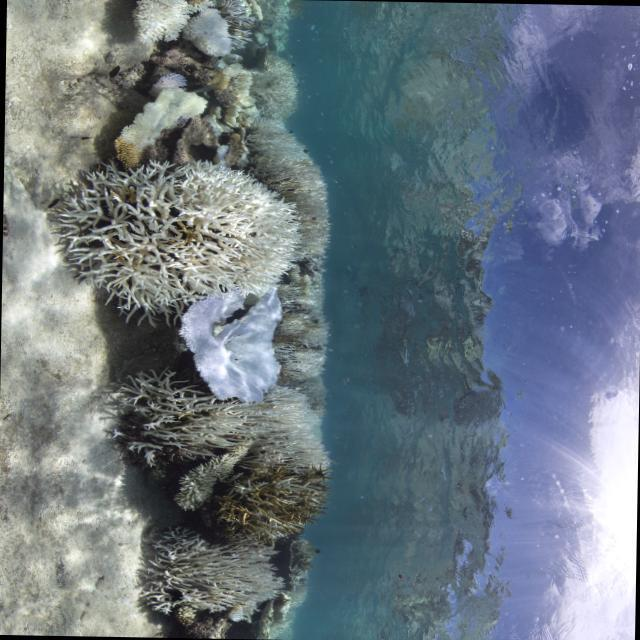Bleached Coral: (51, 160, 309, 302), (96, 373, 343, 462), (170, 286, 278, 400), (141, 540, 281, 617), (115, 87, 209, 139), (248, 121, 321, 159), (254, 54, 295, 120), (127, 0, 186, 41), (188, 8, 233, 58), (223, 63, 261, 94), (221, 0, 256, 28), (154, 72, 187, 89), (223, 106, 241, 131), (211, 142, 229, 164), (204, 119, 223, 139), (209, 104, 221, 115)
Dead Coral: (148, 48, 217, 79)
